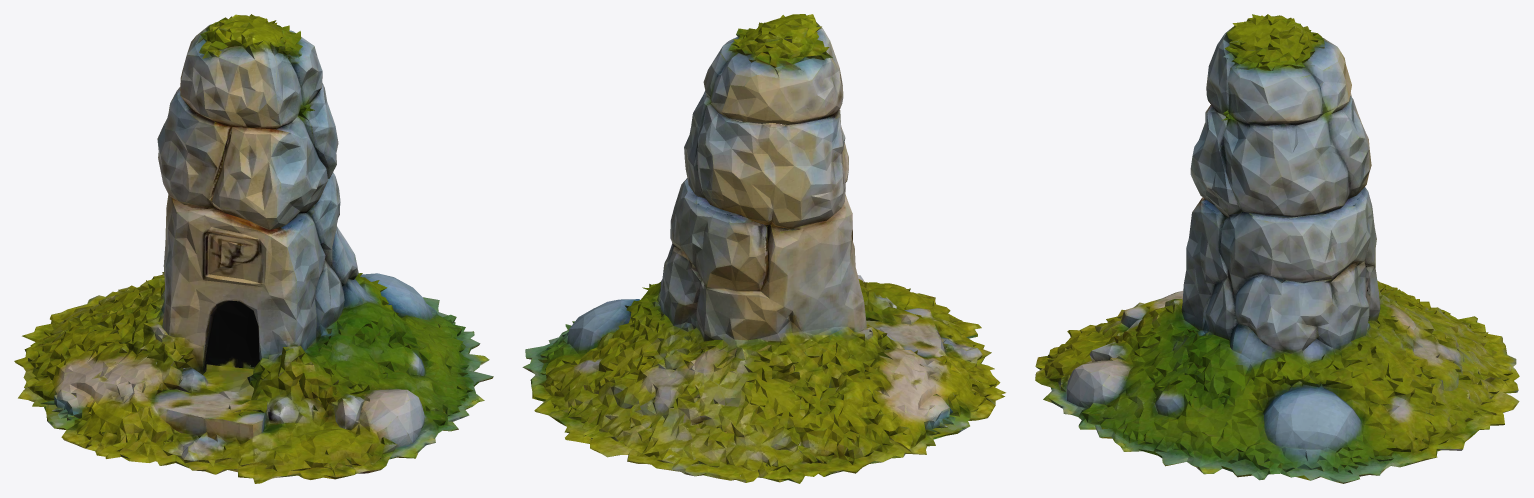
The model's file is stone_tower_14.glb.
3 views of the same model, side by side, from view 1: azimuth 30°, elevation 25°; view 2: azimuth 150°, elevation 25°; view 3: azimuth 270°, elevation 25° (orthographic). The views are drawn at different scales.
Bounding box in the file's own units: 1.94 × 1.59 × 1.97.
1 material, 1 textured.
